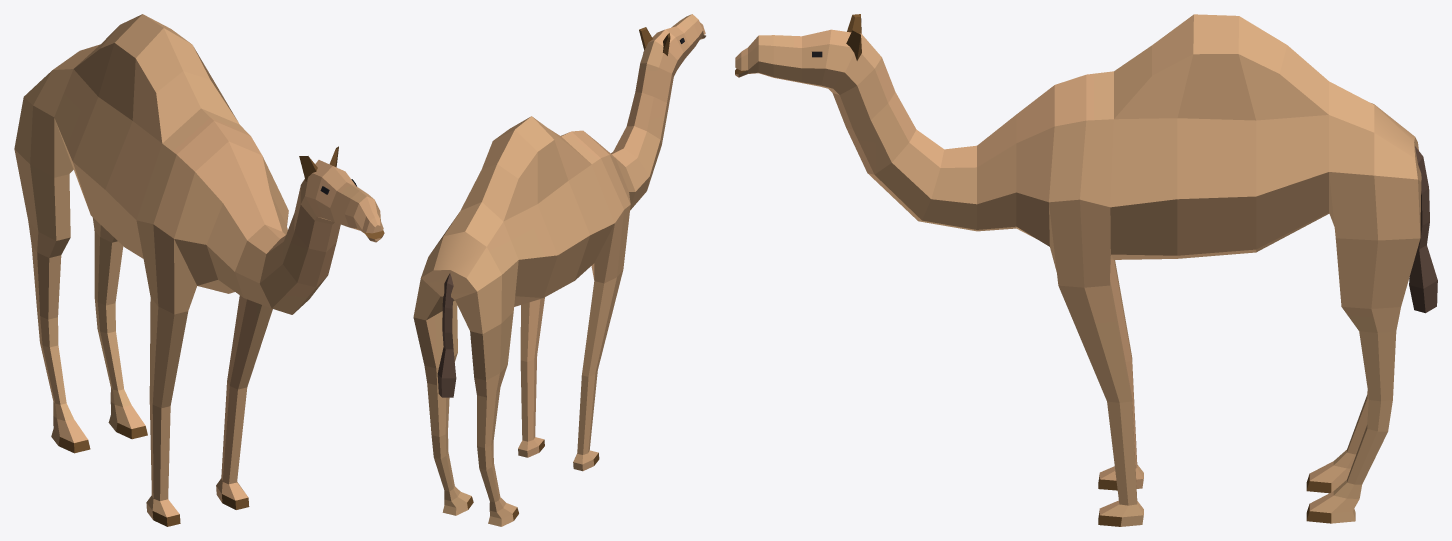
File: camel.glb
3 renders of one model, left to right at view 1: azimuth 30°, elevation 25°; view 2: azimuth 150°, elevation 25°; view 3: azimuth 270°, elevation 25°, orthographic. The views are drawn at different scales.
Visible parts, largest first — view 1: Geo_Camel; view 2: Geo_Camel; view 3: Geo_Camel.
Boxes of the visible parts, box(x1,y1,x2,y2) form: Geo_Camel: box(14, 14, 384, 526); Geo_Camel: box(413, 14, 705, 526); Geo_Camel: box(735, 14, 1437, 526).
Size of the model in its own units: 0.6074 by 2 by 2.6.
Materials: 1 (1 with a texture image).
